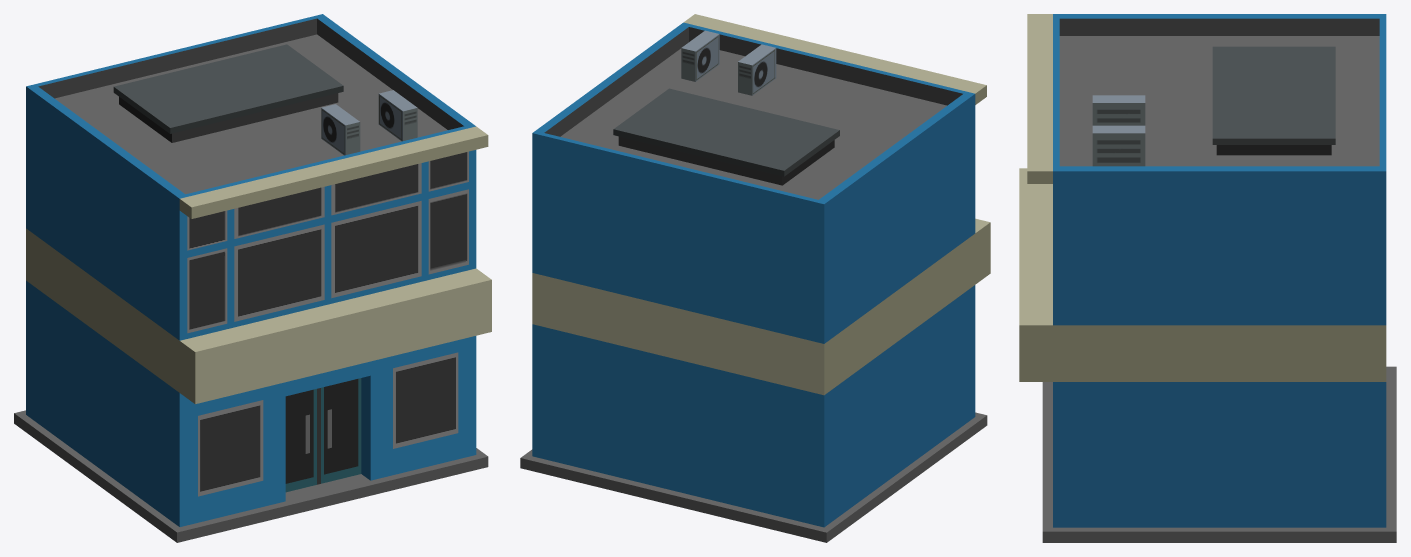
The model's file is shop1.obj.
3 renders of one model, left to right at view 1: azimuth 30°, elevation 25°; view 2: azimuth 150°, elevation 25°; view 3: azimuth 270°, elevation 25°, orthographic. The views are drawn at different scales.
Parts seen in each view (by area): view 1: ST_Building_Shop_01_Untitled; view 2: ST_Building_Shop_01_Untitled; view 3: ST_Building_Shop_01_Untitled.
Part boxes in pixels (<box>): ST_Building_Shop_01_Untitled: <box>14,14,491,542</box>; ST_Building_Shop_01_Untitled: <box>520,14,990,542</box>; ST_Building_Shop_01_Untitled: <box>1019,14,1396,542</box>.
Bounding box in the file's own units: 10.51 × 11.42 × 10.16.
